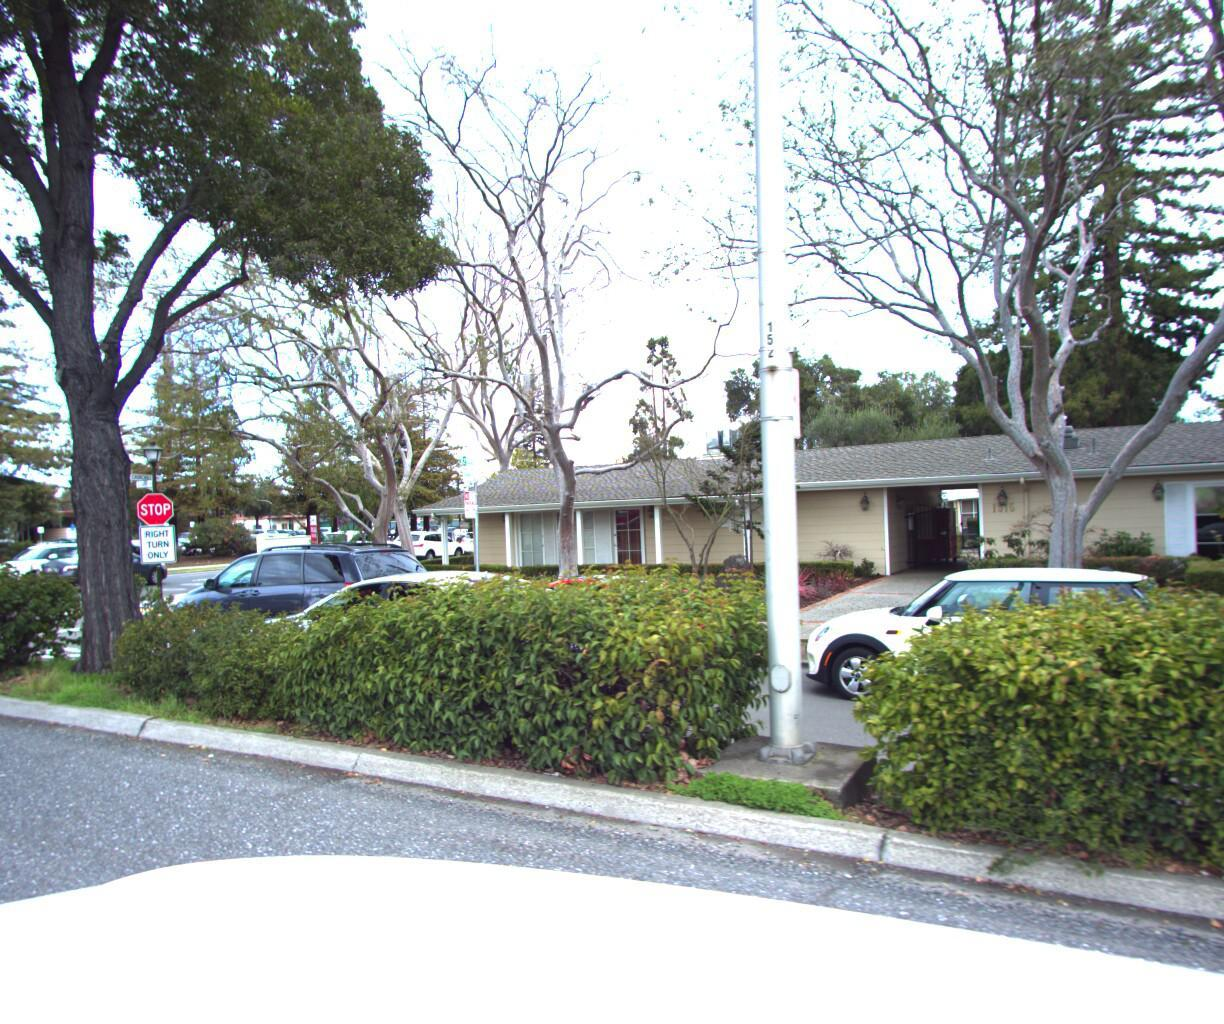car: (779, 550, 1192, 735), (228, 557, 640, 735), (430, 561, 762, 684), (152, 526, 447, 662), (33, 537, 178, 591), (0, 533, 117, 583), (383, 519, 471, 559), (456, 520, 521, 550)
